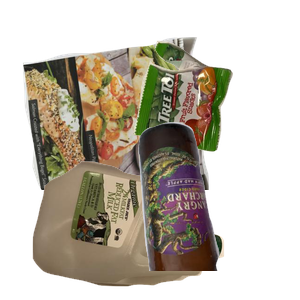glass: (136, 120, 300, 300)
paper: (20, 34, 221, 214)
plastic: (30, 159, 247, 300)
trash: (131, 38, 300, 182)
